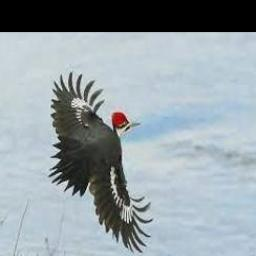Woodpecker: (48, 70, 154, 252)
